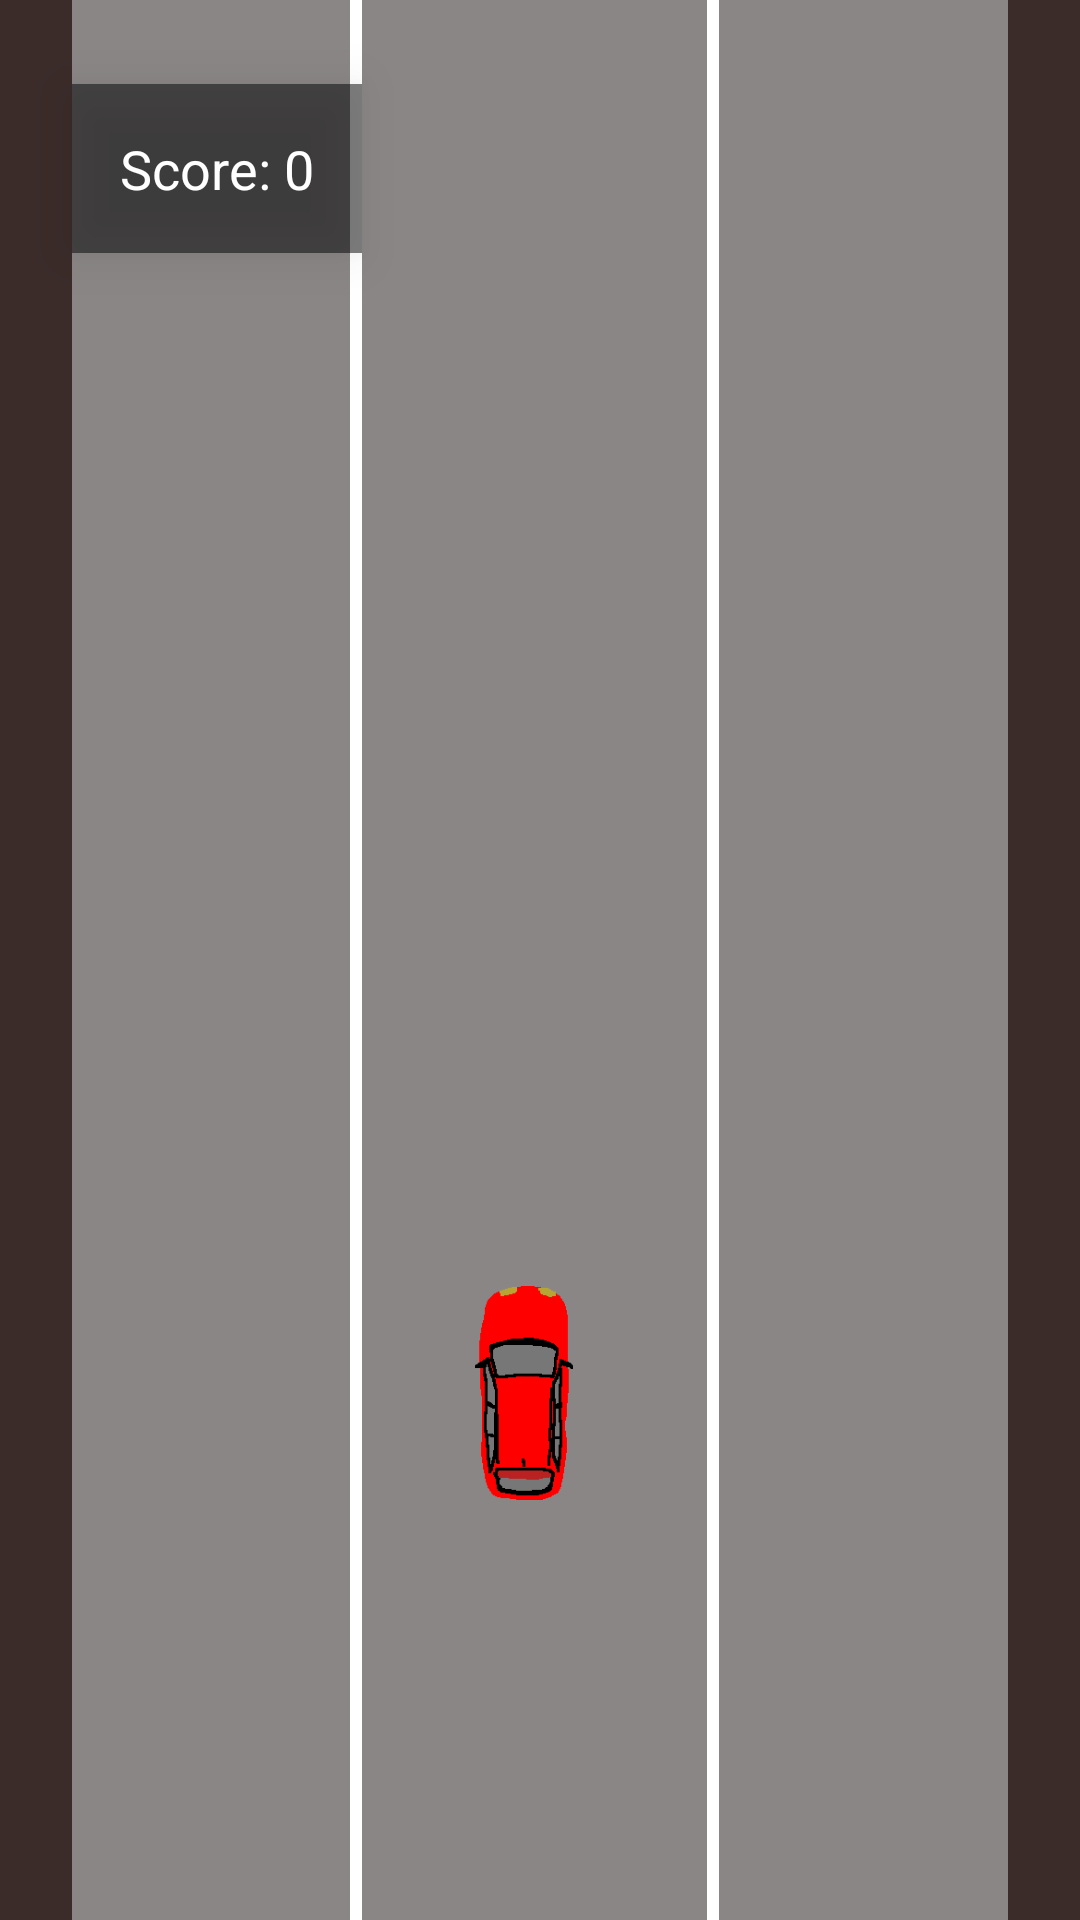

Icons on this 1080 × 1920 Android screen, each with the point to tap as (x,y):
Voiture principale: (524,1393)
